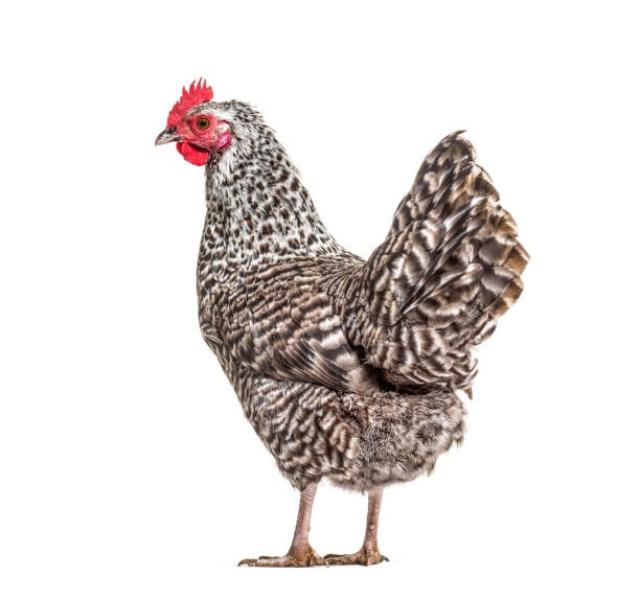Chicken: (156, 77, 529, 568)
